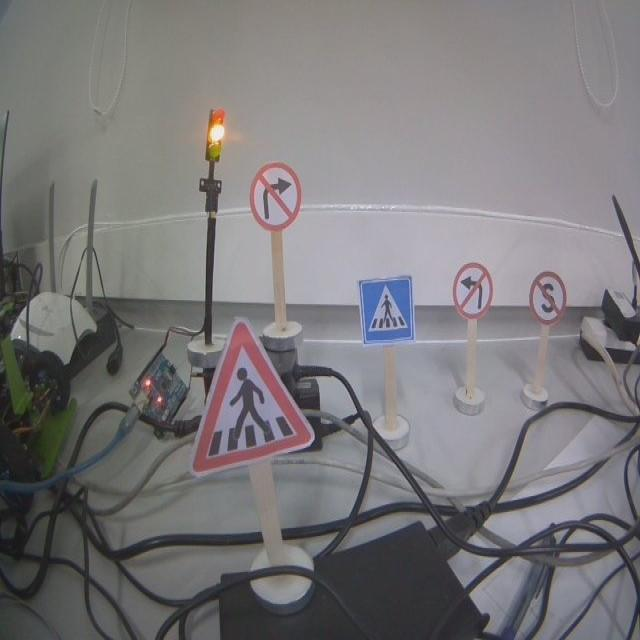Dilarang Belok Kanan: (249, 162, 301, 230)
Dilarang Belok Kiri: (453, 263, 493, 317)
Lampu Kuning: (207, 109, 225, 159)
Rambu Berhenti: (529, 272, 566, 324)
Rambu Penyebrangan: (192, 324, 311, 471), (359, 275, 415, 344)
